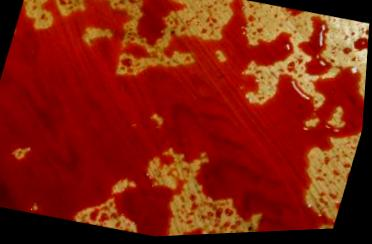Fire: (0, 0, 366, 238), (241, 1, 347, 105), (149, 150, 265, 238), (107, 0, 238, 77), (309, 136, 363, 232), (333, 22, 370, 61)
